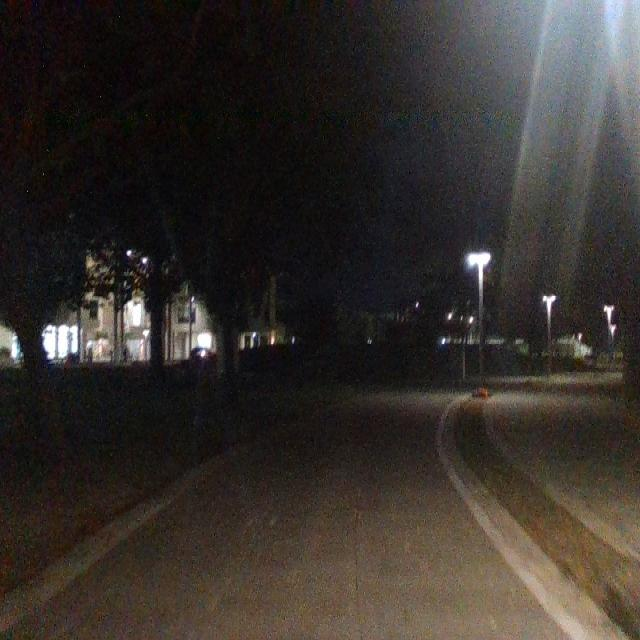lane: (9, 392, 574, 640)
